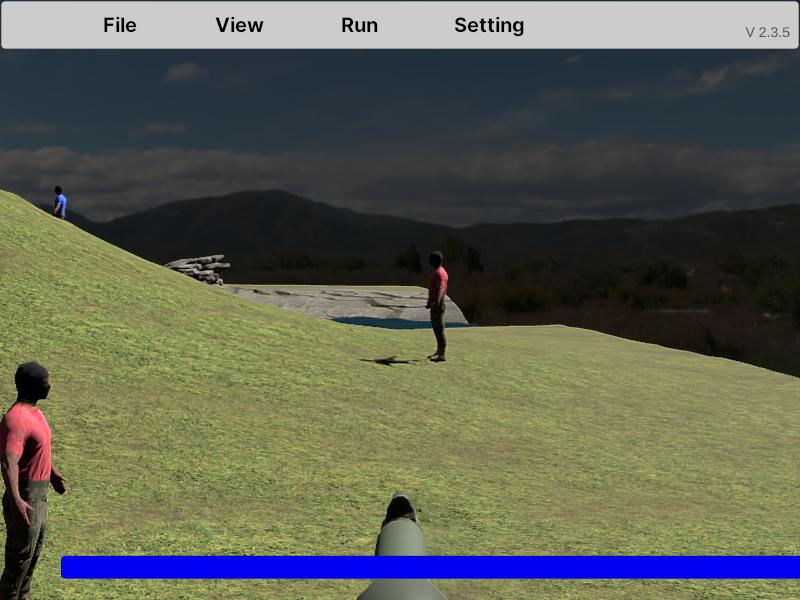Human: (0, 359, 64, 600), (425, 250, 448, 362)
